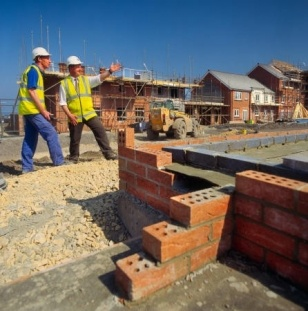white: (32, 45, 50, 68), (67, 55, 82, 76)
